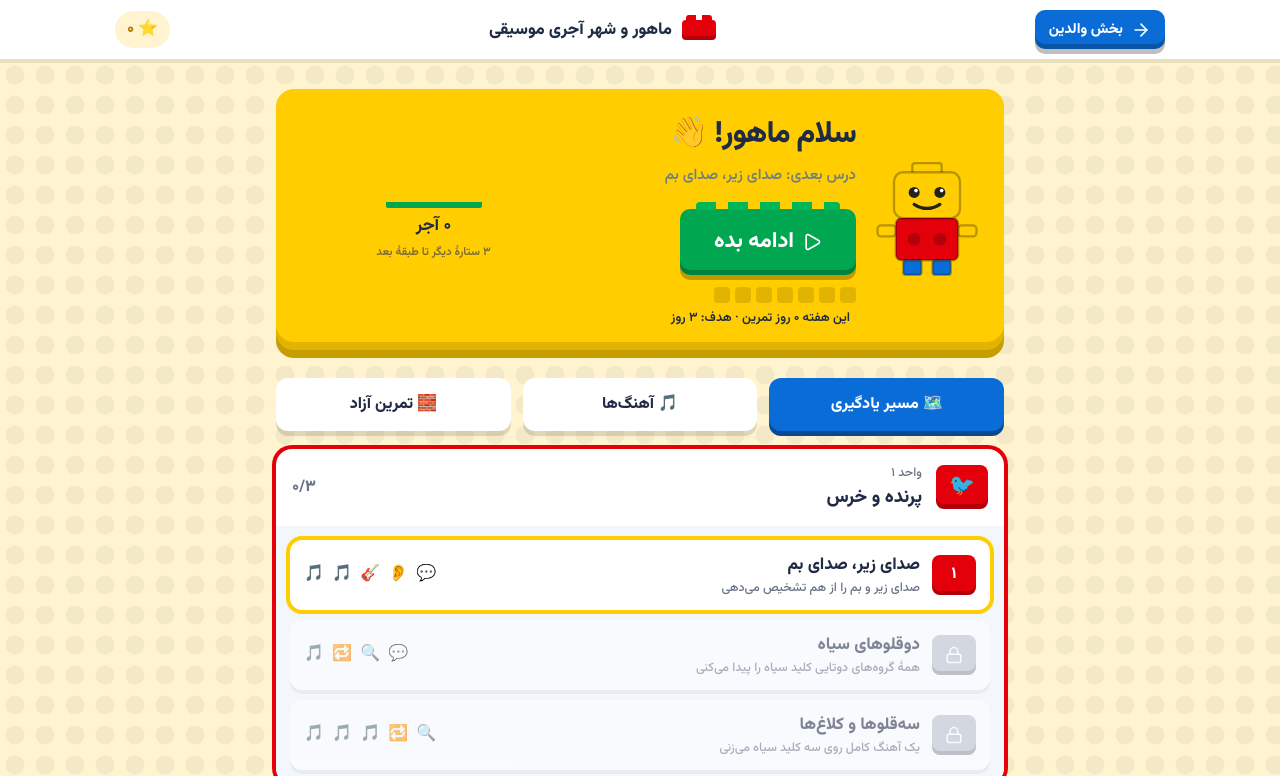
Test case: tapping a stage turns on the microphone and drops straight into play
This screenshot has width=1280, height=776.
Click the tab "🧱 تمرین آزاد".
click(393, 404)  # box x1=276 y1=378 x2=511 y2=431
(page scrolled)
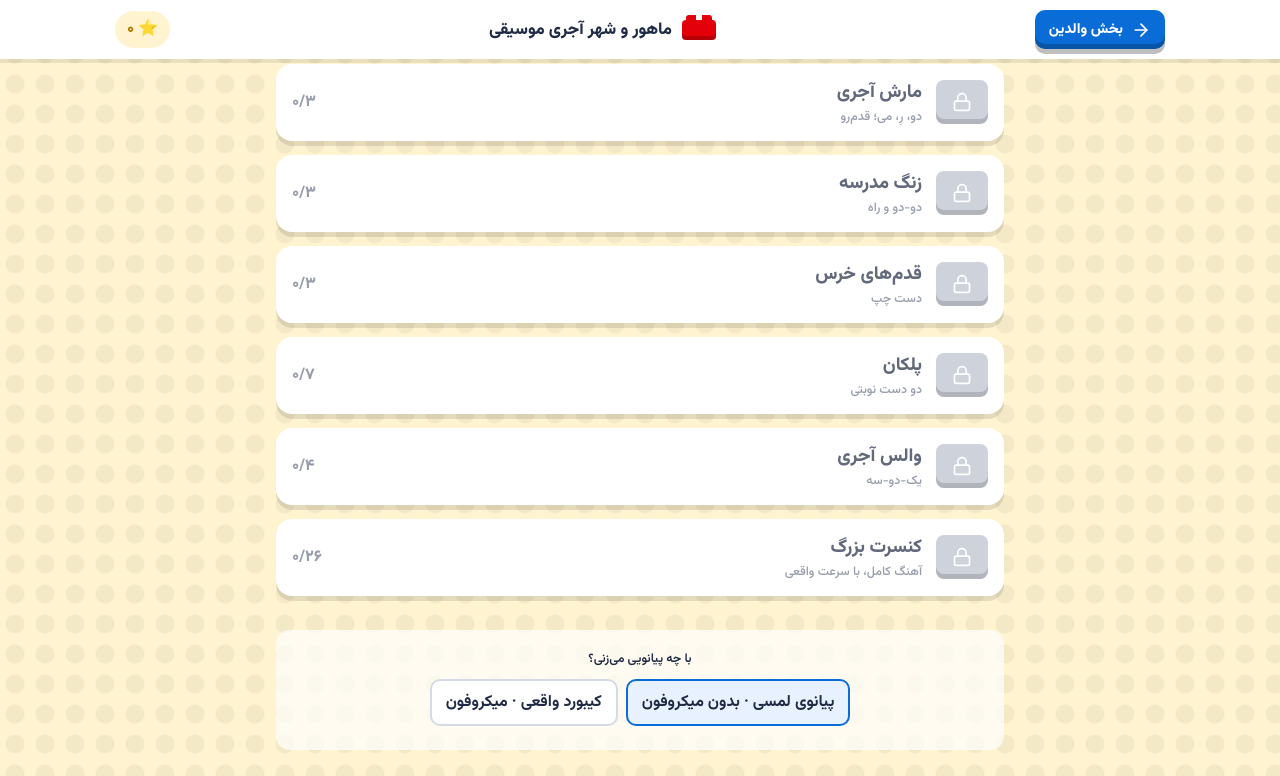
Click the button "کیبورد واقعی · میکروفون".
click(524, 702)  # box x1=430 y1=679 x2=618 y2=726
(page scrolled)
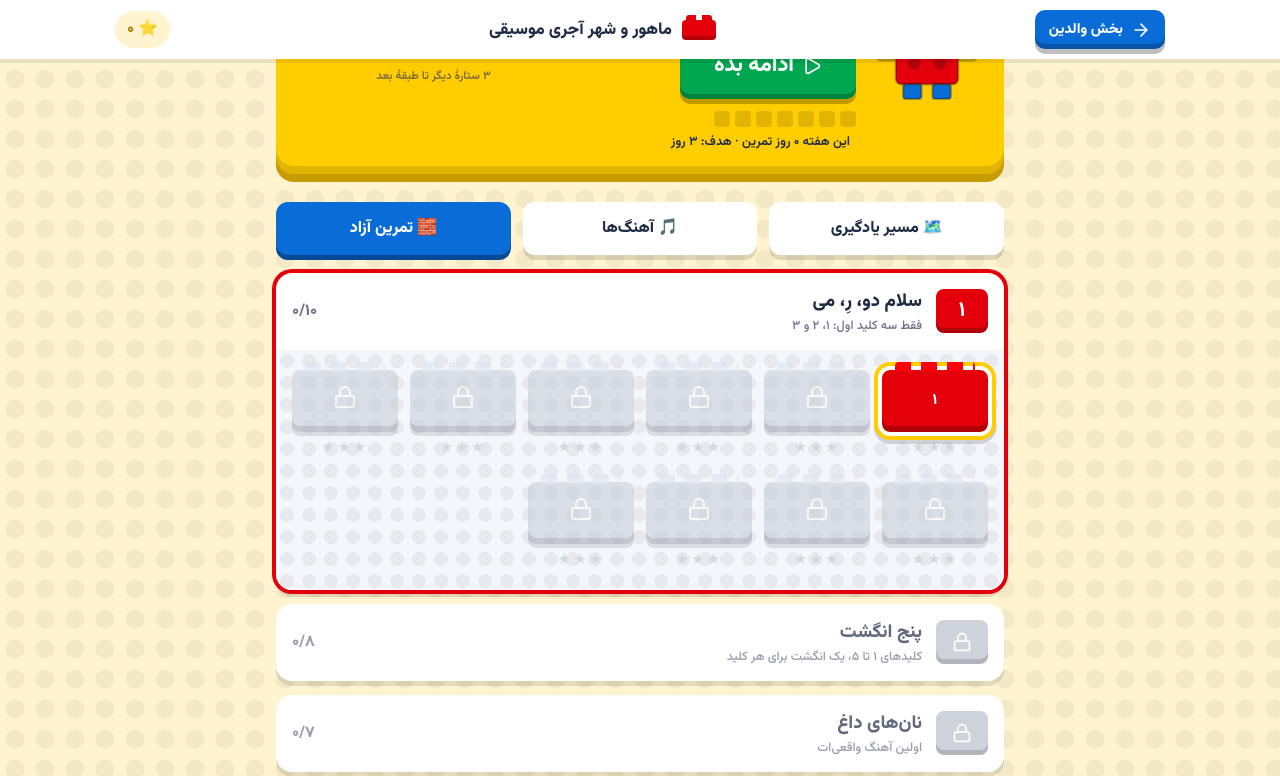
Click the button named "مرحله 1: سلام دو، رِ، می ۱".
click(935, 401)  # box x1=882 y1=370 x2=988 y2=432
(page scrolled)
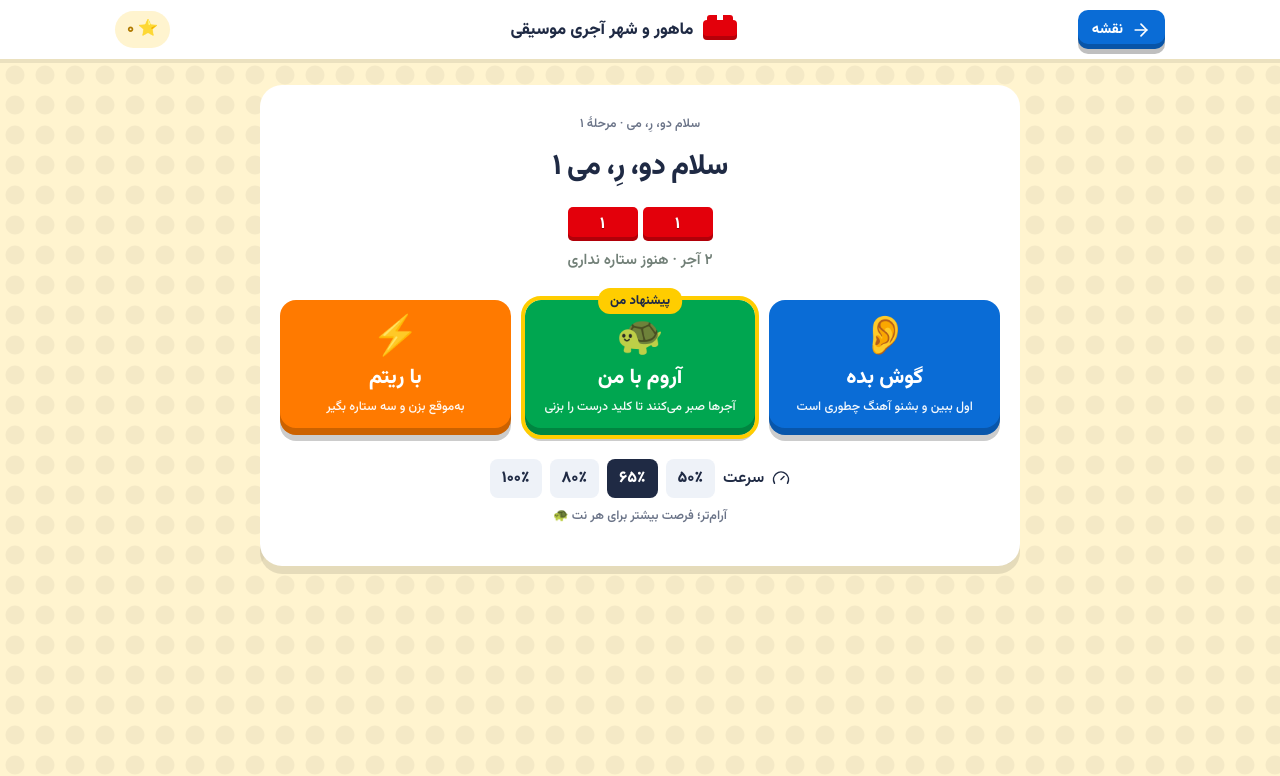
Click the button "⚡ با ریتم به‌موقع بزن و سه ستاره بگیر".
click(395, 367)  # box x1=280 y1=300 x2=511 y2=435
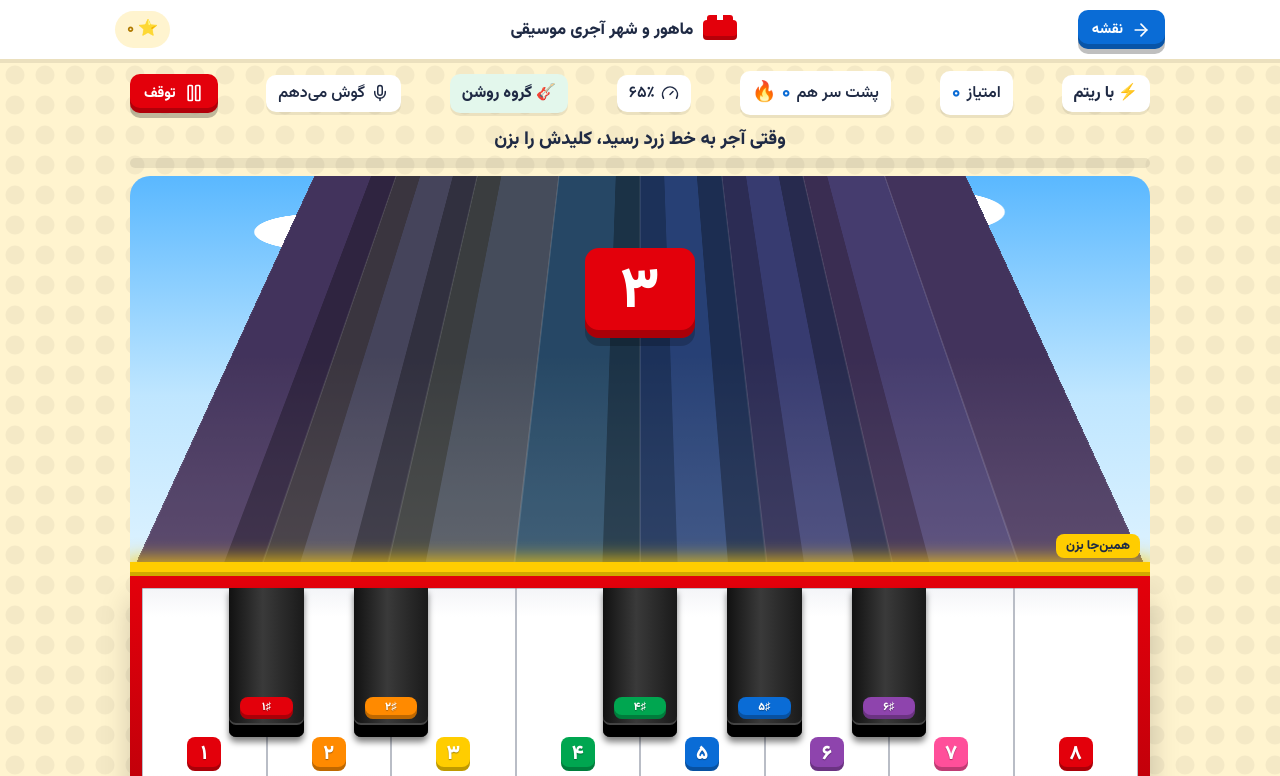
Now the text "همین‌جا بزن" is shown, box x1=1056 y1=534 x2=1140 y2=558
